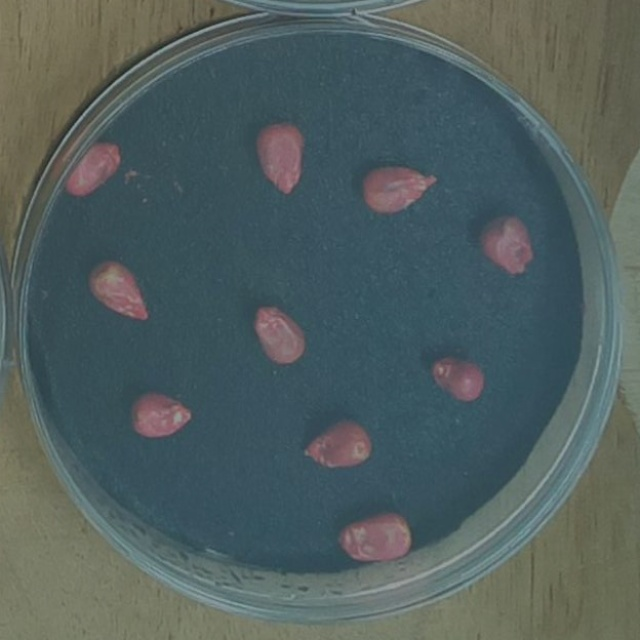Zea mays: (248, 112, 311, 202), (81, 252, 156, 327), (355, 158, 444, 221), (331, 504, 417, 569), (295, 411, 378, 473), (472, 207, 541, 281), (245, 297, 311, 371), (57, 133, 126, 203), (120, 384, 198, 444), (424, 347, 491, 407)
